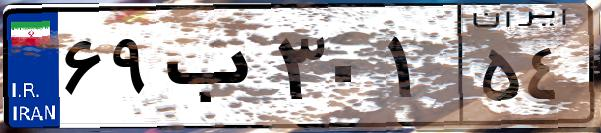0: (330, 28, 385, 110)
1: (385, 28, 445, 110)
3: (270, 28, 330, 110)
4: (525, 38, 570, 115)
5: (475, 38, 525, 113)
6: (57, 26, 110, 100)
9: (110, 28, 158, 98)
ب: (158, 20, 270, 120)
